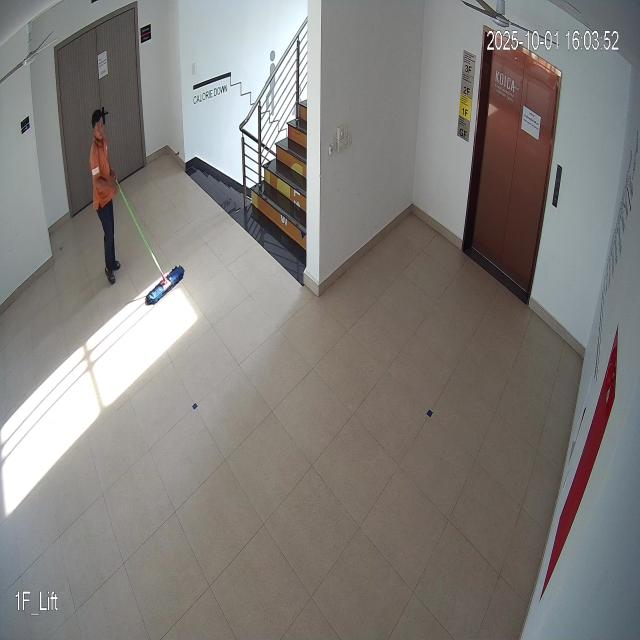face: (88, 106, 108, 145)
